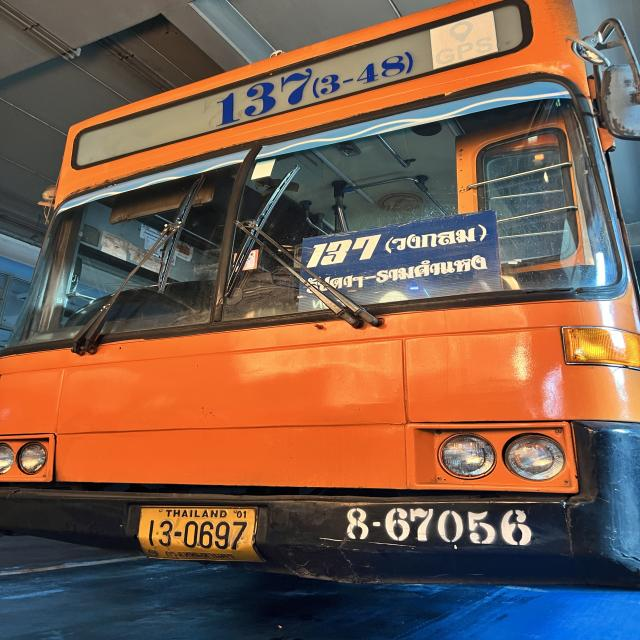BMTA-bus: (0, 0, 640, 594)
Bus-Line-Number: (203, 29, 421, 132)
Destination-Sign-Normal: (301, 212, 503, 312)
